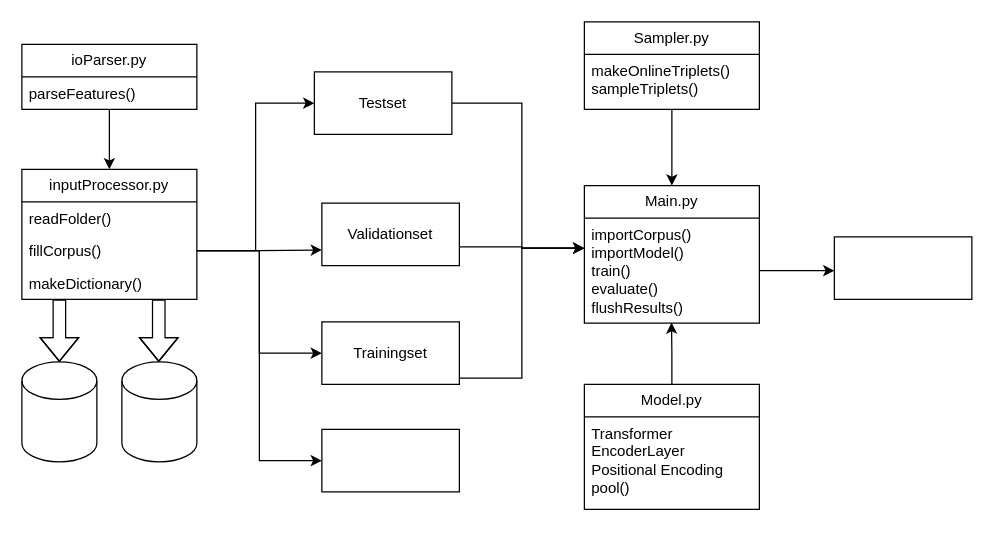
This 994x535 diagram has some shape labels left out. Each missing label, with the centre of its shape:
"MTC" belongs at [59,411].
"RISM" belongs at [159,411].
"RISM set" belongs at [390,460].
"Trained Transformer Model" belongs at [902,267].
